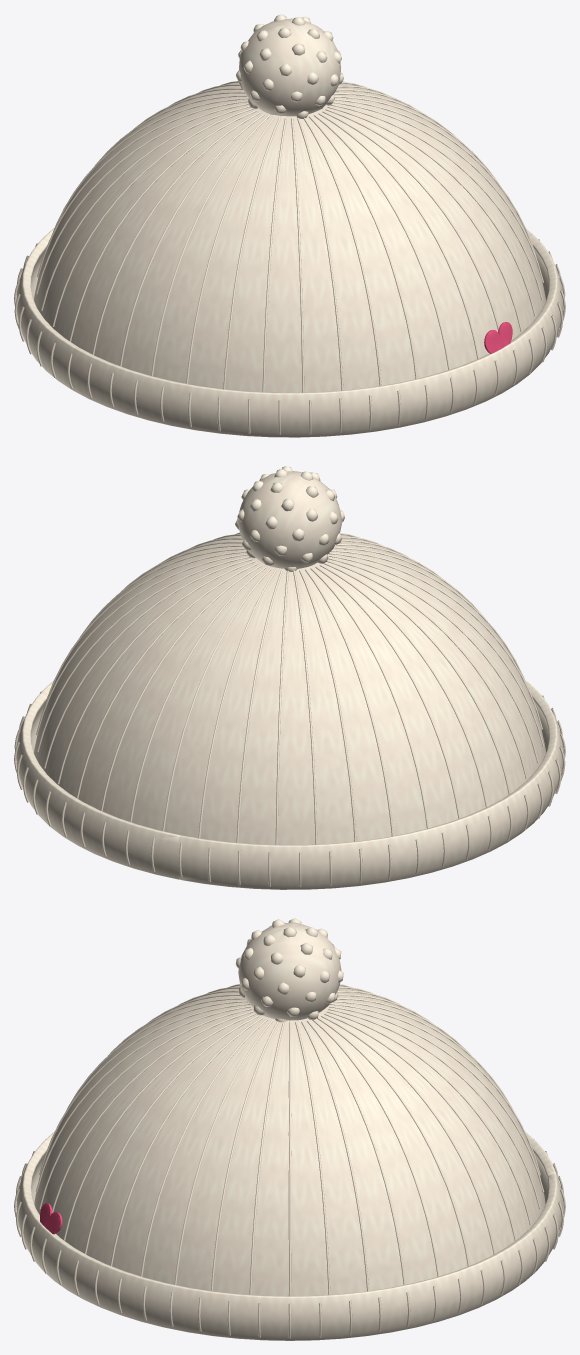
File: restart_headfinish_beanie_cloud_chick.glb
3 views of the same model, one above another, from view 1: azimuth 30°, elevation 25°; view 2: azimuth 150°, elevation 25°; view 3: azimuth 270°, elevation 25° (orthographic).
Visible parts, largest first — view 1: Copa redondeada.003, Dobladillo tejido.003, Pompón.003, Punto tejido de la copa.124, Punto tejido de la copa.156, Punto tejido de la copa.157, Punto tejido de la copa.150, Punto tejido de la copa.158, Punto tejido de la copa.151, Punto tejido de la copa.155, Punto tejido de la copa.125, Punto tejido de la copa.122 (+16 smaller); view 2: Copa redondeada.003, Dobladillo tejido.003, Pompón.003, Punto tejido de la copa.136, Punto tejido de la copa.143, Punto tejido de la copa.144, Punto tejido de la copa.137, Punto tejido de la copa.150, Punto tejido de la copa.149, Punto tejido de la copa.151, Punto tejido de la copa.142, Punto tejido de la copa.145 (+15 smaller); view 3: Copa redondeada.003, Dobladillo tejido.003, Pompón.003, Punto tejido de la copa.123, Punto tejido de la copa.137, Punto tejido de la copa.138, Punto tejido de la copa.129, Punto tejido de la copa.131, Punto tejido de la copa.124, Punto tejido de la copa.136, Punto tejido de la copa.135, Punto tejido de la copa.125 (+14 smaller).
Part boxes in pixels (x1,y1,x2,y2): Copa redondeada.003: (33,82,546,392); Dobladillo tejido.003: (16,228,563,437); Pompón.003: (239,18,340,116); Punto tejido de la copa.124: (325,108,522,331); Punto tejido de la copa.156: (262,118,286,392); Punto tejido de la copa.157: (291,118,304,392); Punto tejido de la copa.150: (69,110,256,341); Punto tejido de la copa.158: (297,118,343,390); Punto tejido de la copa.151: (92,112,260,354); Punto tejido de la copa.155: (223,117,280,389); Punto tejido de la copa.125: (327,106,535,316); Punto tejido de la copa.122: (318,112,479,358); Copa redondeada.003: (34,534,546,845); Dobladillo tejido.003: (16,680,563,889); Pompón.003: (237,471,342,568); Punto tejido de la copa.136: (57,560,254,784); Punto tejido de la copa.143: (275,570,288,844); Punto tejido de la copa.144: (293,570,317,844); Punto tejido de la copa.137: (76,563,257,798); Punto tejido de la copa.150: (323,562,510,793); Punto tejido de la copa.149: (319,564,487,807); Punto tejido de la copa.151: (327,560,527,779); Punto tejido de la copa.142: (236,570,282,842); Punto tejido de la copa.145: (299,570,356,841); Copa redondeada.003: (34,985,545,1296); Dobladillo tejido.003: (16,1131,563,1340); Pompón.003: (238,922,341,1020); Punto tejido de la copa.123: (63,1013,255,1240); Punto tejido de la copa.137: (324,1013,516,1240); Punto tejido de la copa.138: (327,1010,531,1225); Punto tejido de la copa.129: (249,1022,284,1294); Punto tejido de la copa.131: (295,1022,330,1294); Punto tejido de la copa.124: (84,1015,258,1254); Punto tejido de la copa.136: (321,1015,495,1254); Punto tejido de la copa.135: (317,1017,469,1266); Punto tejido de la copa.125: (110,1017,262,1266).
Size of the model in its own units: 0.7781 by 0.4802 by 0.7781.
Materials: 2 (2 with a texture image).
